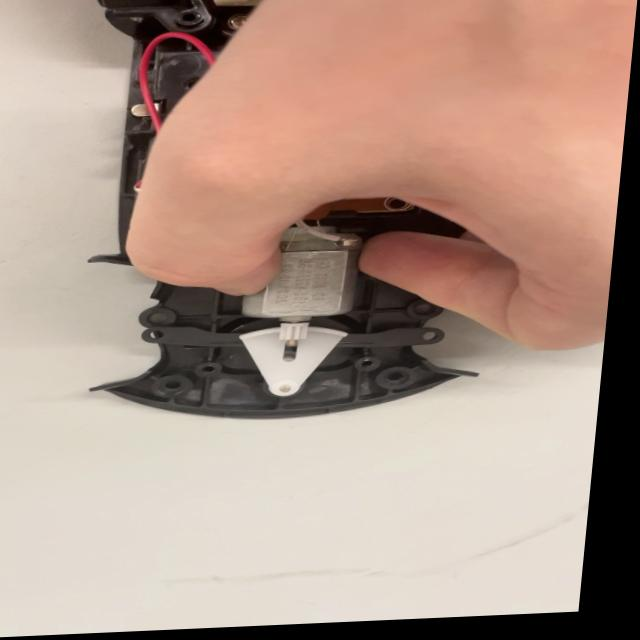motor: (223, 221, 370, 343)
